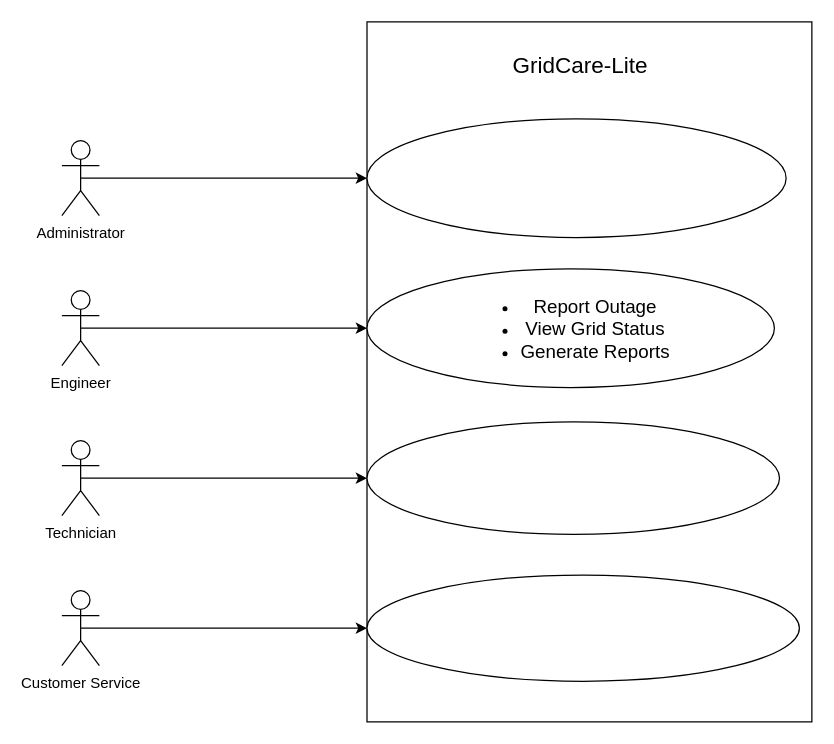
This 834x744 diagram has some shape labels left out. The shapes that lost their labels are listed below. From the top down, each one's centre as x and y in pixels, then its label:
point 576,178: Login Manage Users Create Work Orders Assign Technician View Dashboard
point 573,477: View Assigned Jobs Update Repair Status
point 582,627: View Complaints Respond to Complaints Notify and Update Customers
